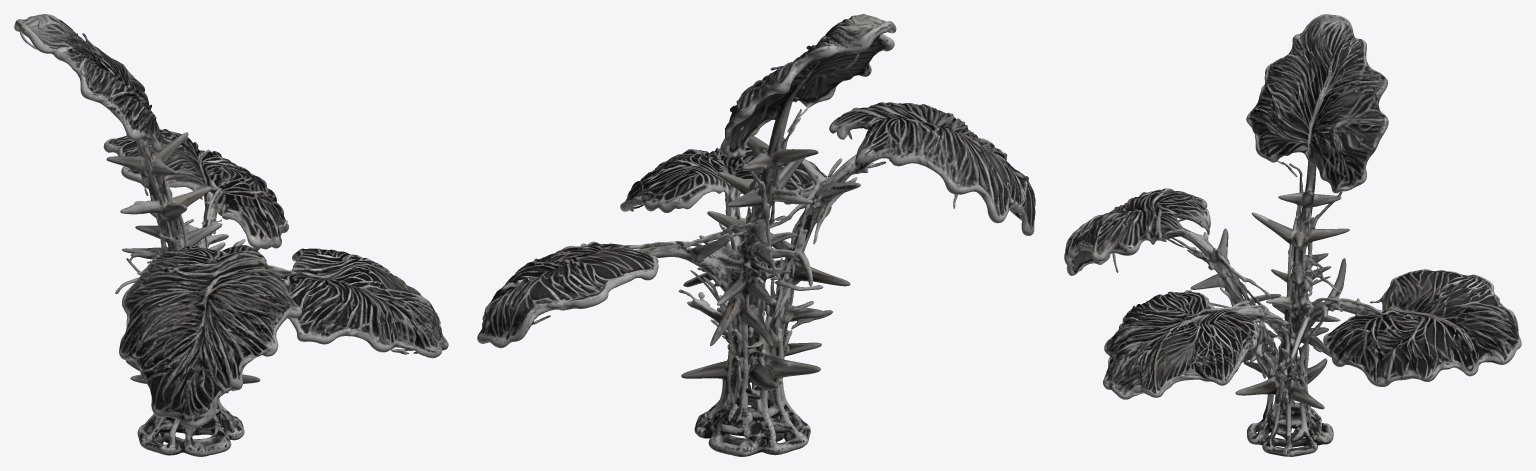
Rendered from sustainability-neutral.glb.
3 views of the same model, side by side, from view 1: azimuth 30°, elevation 25°; view 2: azimuth 150°, elevation 25°; view 3: azimuth 270°, elevation 25° (orthographic). The views are drawn at different scales.
Parts seen in each view (by area): view 1: tripo_node_067546ac-b07e-4311-9b7c-b85ccfe85524; view 2: tripo_node_067546ac-b07e-4311-9b7c-b85ccfe85524; view 3: tripo_node_067546ac-b07e-4311-9b7c-b85ccfe85524.
Part boxes in pixels (box(x1,y1,x2,y2)): tripo_node_067546ac-b07e-4311-9b7c-b85ccfe85524: box(14, 14, 448, 456); tripo_node_067546ac-b07e-4311-9b7c-b85ccfe85524: box(477, 14, 1035, 456); tripo_node_067546ac-b07e-4311-9b7c-b85ccfe85524: box(1064, 14, 1521, 456).
Bounding box in the file's own units: 0.6831 × 0.8854 × 1.
1 material, 1 textured.
